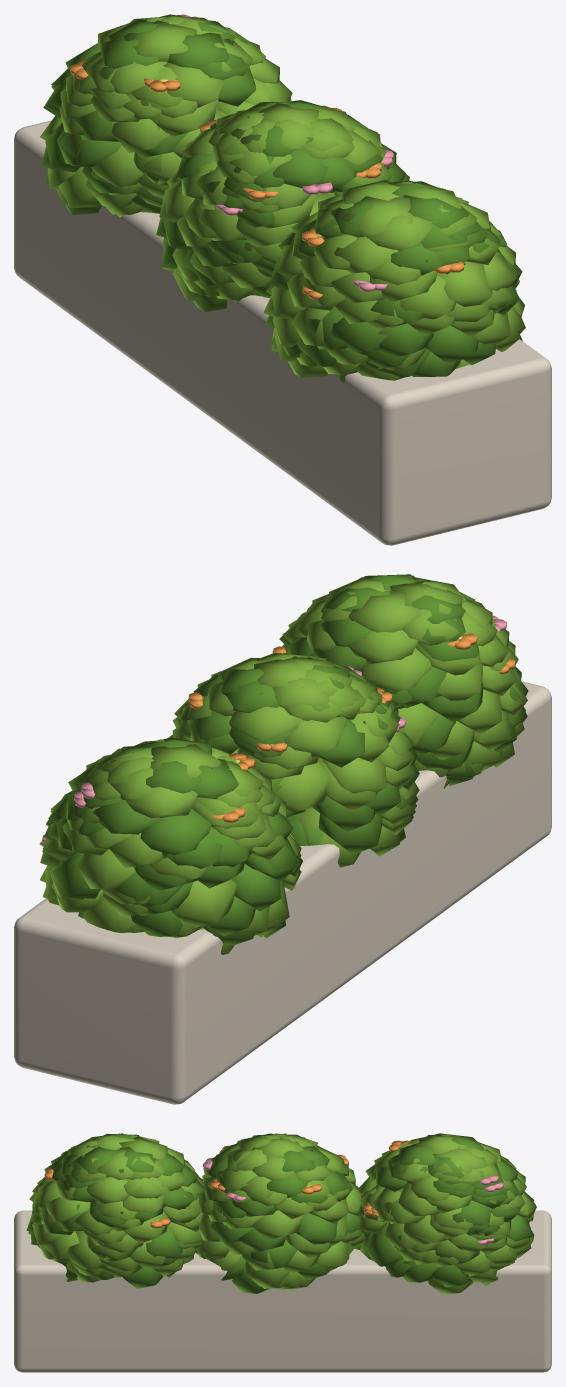
File: street_planter.glb
3 renders of one model, top to bottom at view 1: azimuth 30°, elevation 25°; view 2: azimuth 150°, elevation 25°; view 3: azimuth 270°, elevation 25°, orthographic. The views are drawn at different scales.
Parts seen in each view (by area): view 1: Trough, Bush0, Bush2, Bush1; view 2: Trough, Bush2, Bush1, Bush0; view 3: Trough, Bush2, Bush0, Bush1.
Part boxes in pixels (x1,y1,x2,y2): Trough: (14, 120, 551, 545); Bush0: (263, 180, 525, 383); Bush2: (40, 14, 292, 217); Bush1: (156, 100, 409, 311); Trough: (14, 681, 551, 1104); Bush2: (39, 737, 302, 954); Bush1: (168, 653, 419, 867); Bush0: (279, 574, 528, 788); Trough: (14, 1210, 551, 1372); Bush2: (357, 1133, 536, 1294); Bush0: (26, 1133, 204, 1288); Bush1: (197, 1133, 366, 1293).
Size of the model in its own units: 0.6717 by 0.7927 by 1.9.
